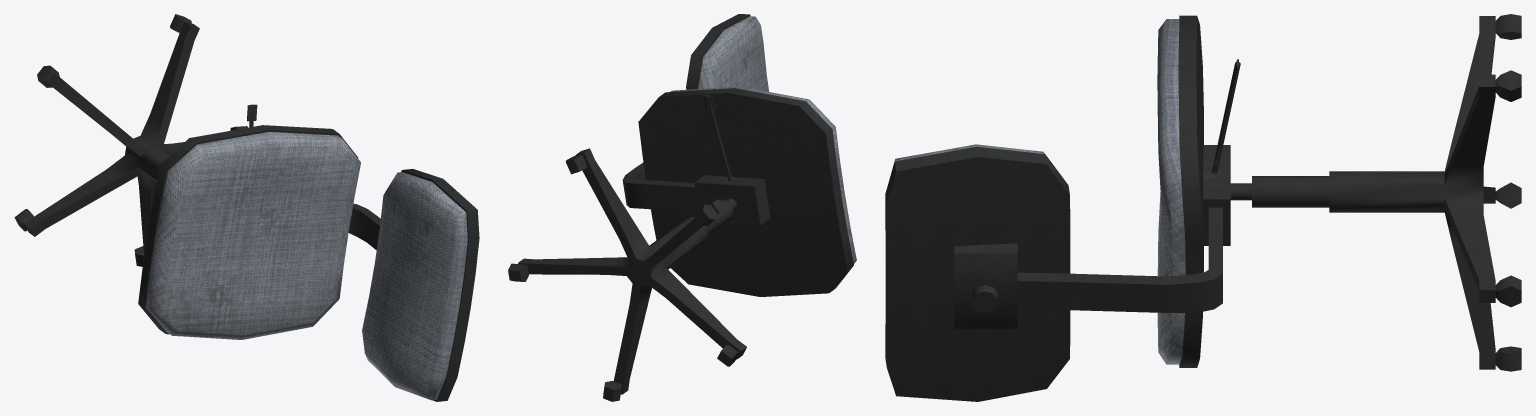
File: Office Chair.fbx
The picture shows the model from 3 angles, left to right: view 1: azimuth 30°, elevation 25°; view 2: azimuth 150°, elevation 25°; view 3: azimuth 270°, elevation 25°; orthographic projection. The views are drawn at different scales.
Visible parts, largest first — view 1: Mesh_16; view 2: Mesh_16; view 3: Mesh_16.
Boxes of the visible parts, bbox=[...] form: Mesh_16: bbox=[14, 14, 479, 401]; Mesh_16: bbox=[508, 14, 856, 401]; Mesh_16: bbox=[885, 14, 1521, 401].
Size of the model in its own units: 249 by 241 by 435.
